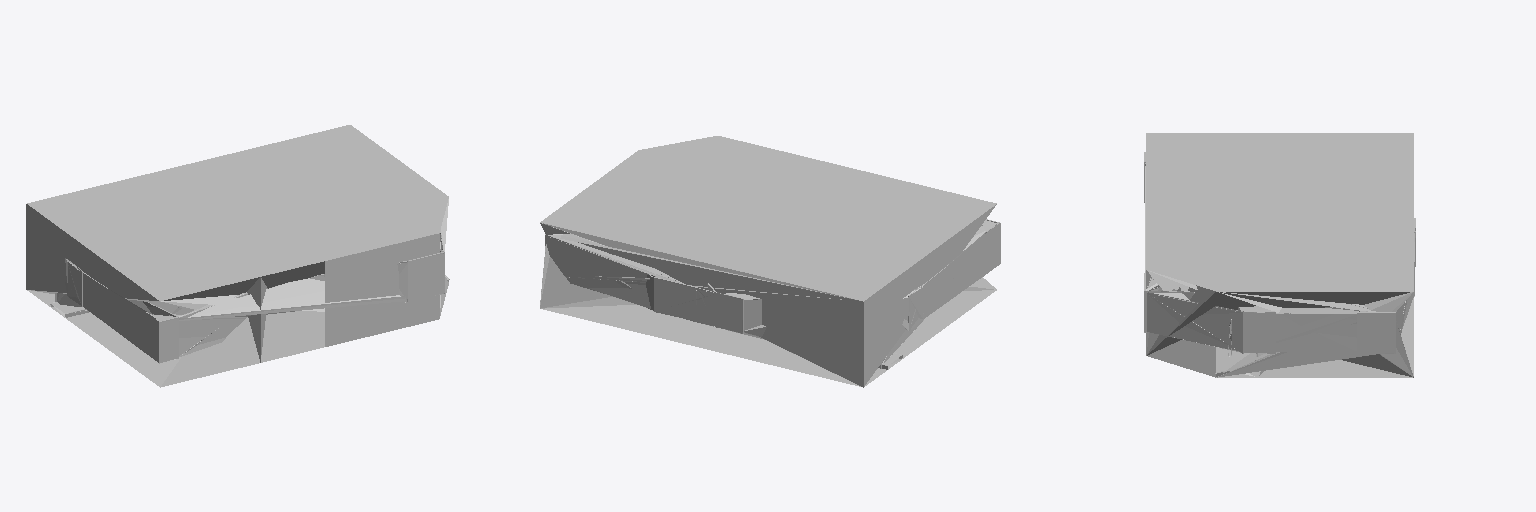
The picture shows the model from 3 angles: view 1: azimuth 30°, elevation 25°; view 2: azimuth 150°, elevation 25°; view 3: azimuth 270°, elevation 25°; orthographic projection.
Parts seen in each view (by area): view 1: floor_secondary_wooden, walls, frame_window, pillow, bathroom_props, shower, wood_primary, bed002, Celling, glass, tv, photo; view 2: floor_secondary_wooden, walls, Celling, frame_window, bathroom_props, pillow, shower, wood_primary, glass, bed002, tv, floor_primary_marble (+1 smaller); view 3: floor_secondary_wooden, walls, wood_primary, bathroom_props, frame_window, pillow, Railing, shower, floor_primary_marble, bed002, Celling, tv (+3 smaller).
Part boxes in pixels (x1,y1,x2,y2): floor_secondary_wooden: (26, 125, 448, 346); walls: (27, 125, 446, 362); frame_window: (27, 198, 444, 386); pillow: (35, 199, 448, 387); bathroom_props: (30, 197, 444, 362); shower: (30, 125, 448, 358); wood_primary: (33, 126, 449, 363); bed002: (30, 136, 439, 299); Celling: (38, 127, 444, 314); glass: (44, 127, 445, 298); tv: (250, 128, 440, 264); photo: (161, 295, 324, 311); floor_secondary_wooden: (540, 136, 996, 386); walls: (543, 136, 999, 386); Celling: (543, 152, 987, 387); frame_window: (540, 151, 998, 385); bathroom_props: (543, 145, 999, 373); pillow: (540, 137, 996, 386); shower: (545, 137, 1000, 330); wood_primary: (540, 143, 1000, 369); glass: (542, 137, 995, 298); bed002: (541, 136, 992, 295); tv: (542, 141, 891, 246); floor_primary_marble: (642, 136, 827, 168); floor_secondary_wooden: (1146, 133, 1413, 377); walls: (1144, 133, 1415, 375); wood_primary: (1144, 133, 1415, 376); bathroom_props: (1144, 133, 1415, 377); frame_window: (1144, 137, 1415, 367); pillow: (1146, 134, 1413, 375); Railing: (1147, 271, 1404, 377); shower: (1144, 134, 1415, 353); floor_primary_marble: (1146, 214, 1411, 376); bed002: (1146, 133, 1408, 291); Celling: (1150, 137, 1402, 312); tv: (1147, 185, 1399, 291).
Bounding box in the file's own units: 46.85 × 11.72 × 33.46.